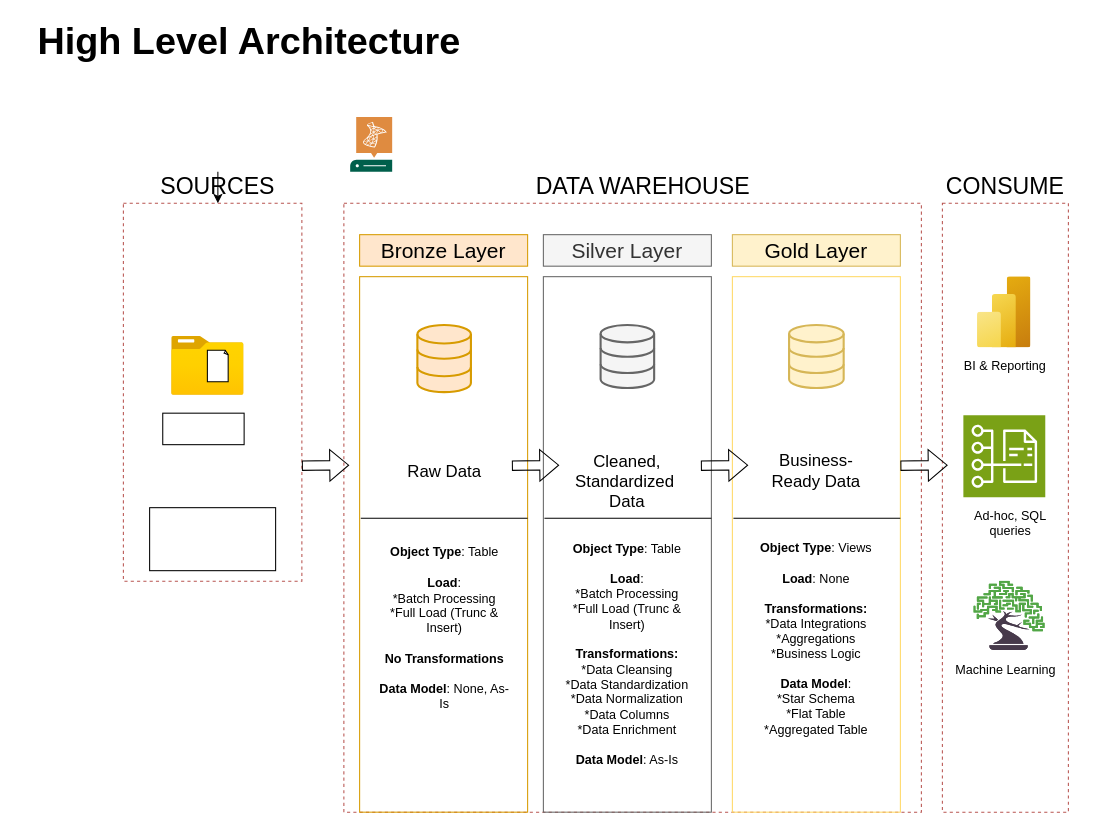
The diagram is 1117 pixels wide and 831 high, and some of its shapes have lost their labels. Here are the shapes that lost their labels. From the top down, the centre of each, then its label:
At point (203, 428): "Kaggle Website".
At point (212, 539): "Object Type : CSV Files Interface : Files".
